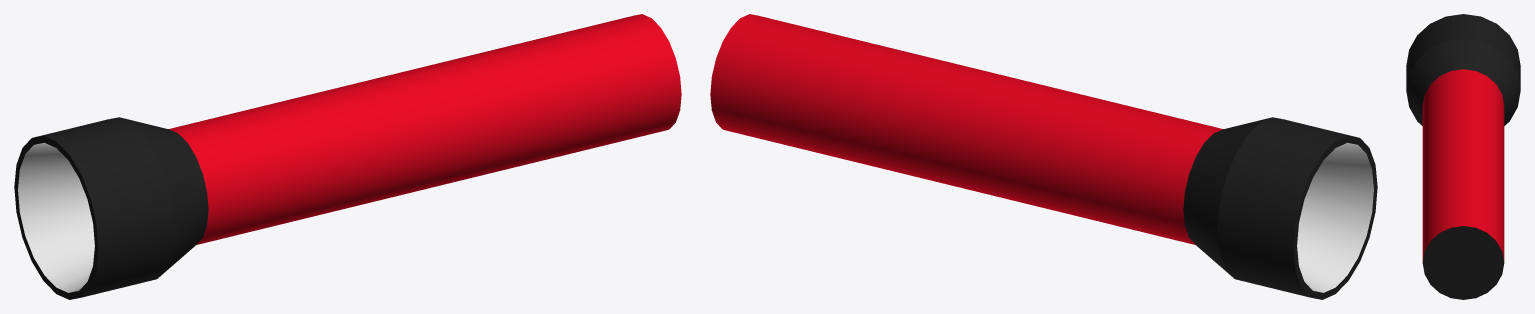
Rendered from Torch_Unwrapped.fbx.
3 renders of one model, left to right at view 1: azimuth 30°, elevation 25°; view 2: azimuth 150°, elevation 25°; view 3: azimuth 270°, elevation 25°, orthographic. The views are drawn at different scales.
Visible parts, largest first — view 1: pCylinder2; view 2: pCylinder2; view 3: pCylinder2.
Boxes of the visible parts, box(x1,y1,x2,y2) form: pCylinder2: box(14, 14, 681, 299); pCylinder2: box(710, 14, 1377, 299); pCylinder2: box(1406, 14, 1520, 299).
Bounding box in the file's own units: 26.65 × 6.53 × 6.53.
